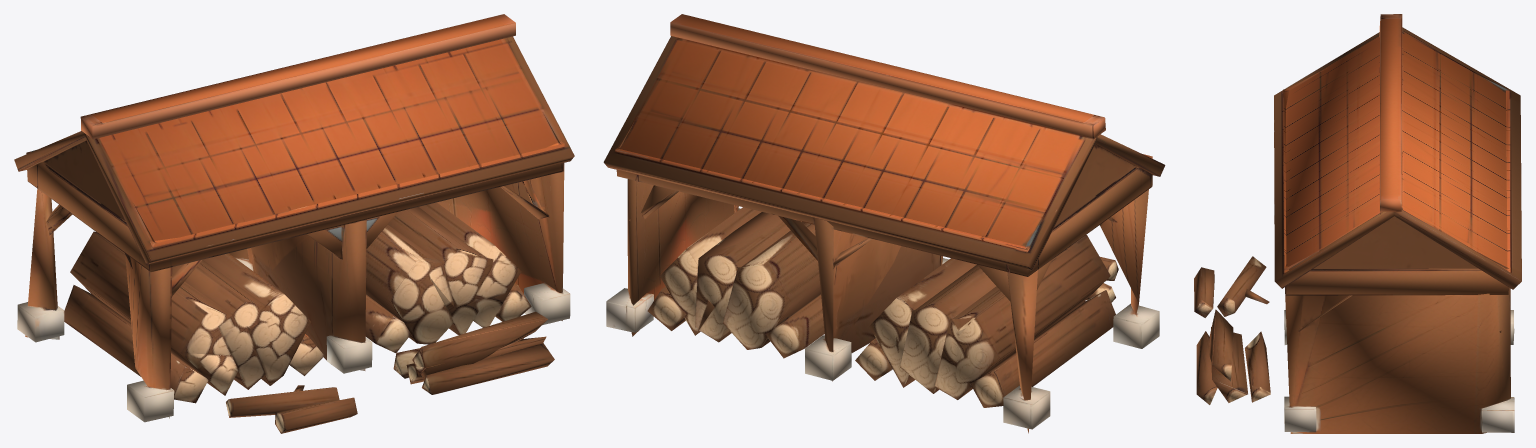
File: meshy-c-550.glb
3 views of the same model, side by side, from view 1: azimuth 30°, elevation 25°; view 2: azimuth 150°, elevation 25°; view 3: azimuth 270°, elevation 25° (orthographic). The views are drawn at different scales.
Size of the model in its own units: 1 by 0.5959 by 0.742.
1 material, 1 textured.
